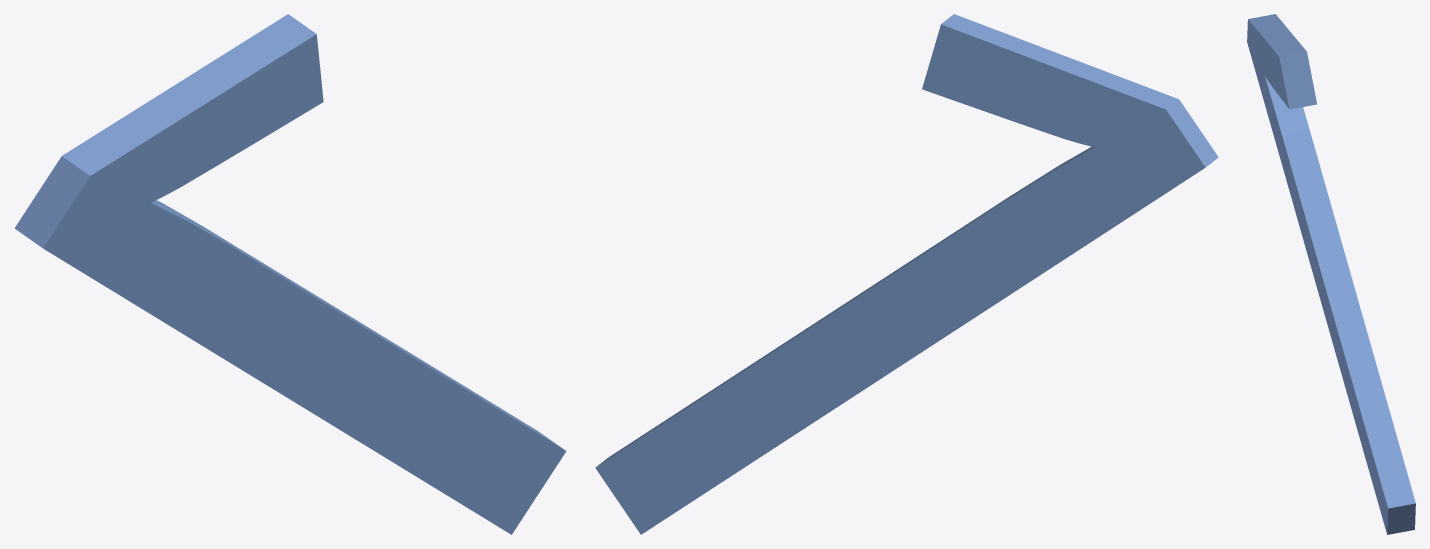
The model's file is New_Number_1.gltf.
3 views of the same model, side by side, from view 1: azimuth 30°, elevation 25°; view 2: azimuth 150°, elevation 25°; view 3: azimuth 270°, elevation 25° (orthographic). The views are drawn at different scales.
Parts seen in each view (by area): view 1: Part 433; view 2: Part 433; view 3: Part 433.
Boxes of the visible parts, <box> form: Part 433: <box>14,14,566,534</box>; Part 433: <box>595,14,1218,534</box>; Part 433: <box>1247,14,1415,534</box>.
Bounding box in the file's own units: 0.00414 × 0.00392 × 0.00152.
